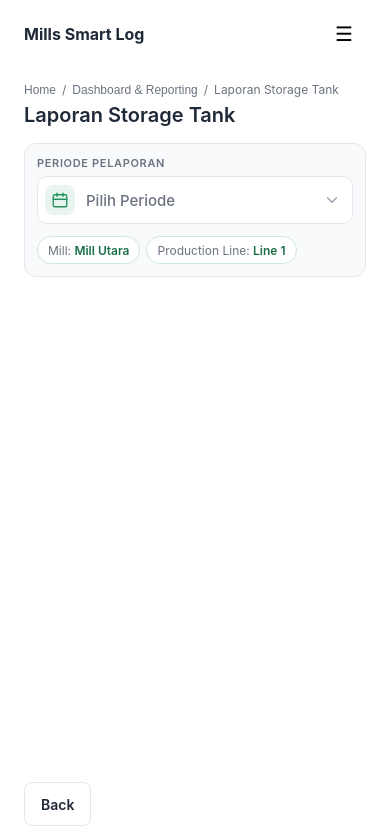
LaporanStorageTankView — test_scenarios / component_test (tech spec screen-139) › tangki berpembacaan tunggal — stok awal dan akhir menunjuk pembacaan yang SAMA, pergerakannya "tidak dapat dihitung" BUKAN 0
Select "Storage Tank — Periode September 2026" in the dropdown with test id "period-select" at (195, 200), box left=37, top=176, right=353, bottom=224
(page scrolled)
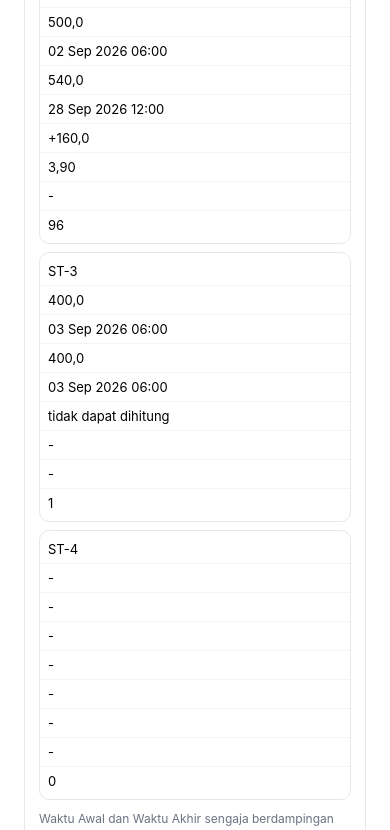
Expected: the row with test id "by-tank-row" shows "ST-3", left=48, top=263, right=78, bottom=279
Expected: the row with test id "by-tank-row" shows "400,0", left=48, top=292, right=84, bottom=308
Expected: the row with test id "by-tank-row" shows "03 Sep 2026 06:00", left=48, top=321, right=168, bottom=337
